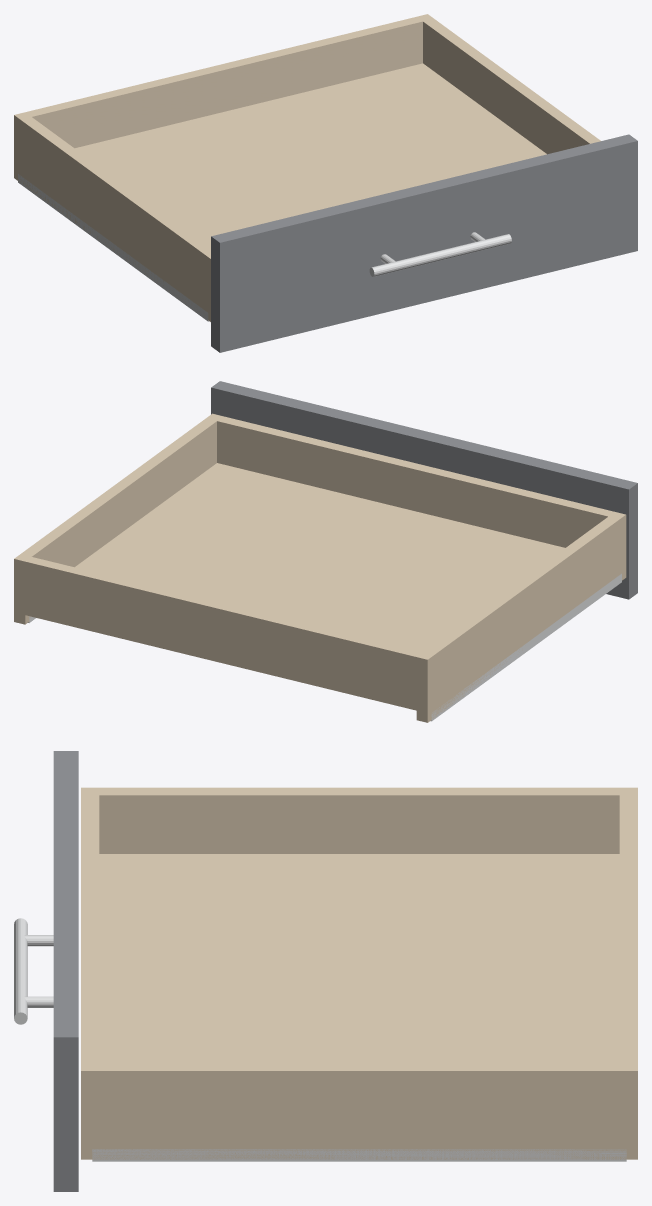
Rendered from skuff_K5_3.glb.
The picture shows the model from 3 angles, top to bottom: view 1: azimuth 30°, elevation 25°; view 2: azimuth 150°, elevation 25°; view 3: azimuth 270°, elevation 25°; orthographic projection. The views are drawn at different scales.
Size of the model in its own units: 596 by 150 by 549.
